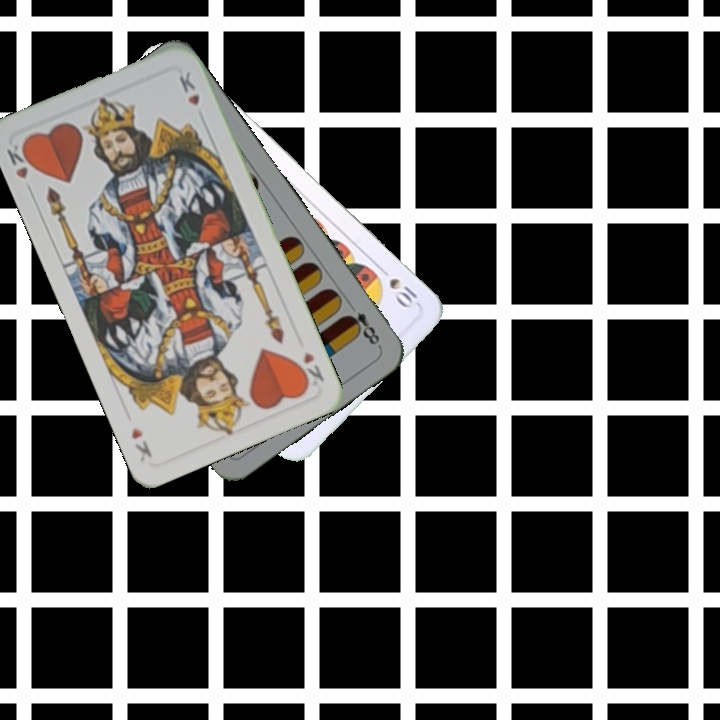E8: (341, 307, 383, 350)
HK: (2, 138, 38, 197), (293, 347, 327, 391)
S10: (374, 262, 422, 312)
